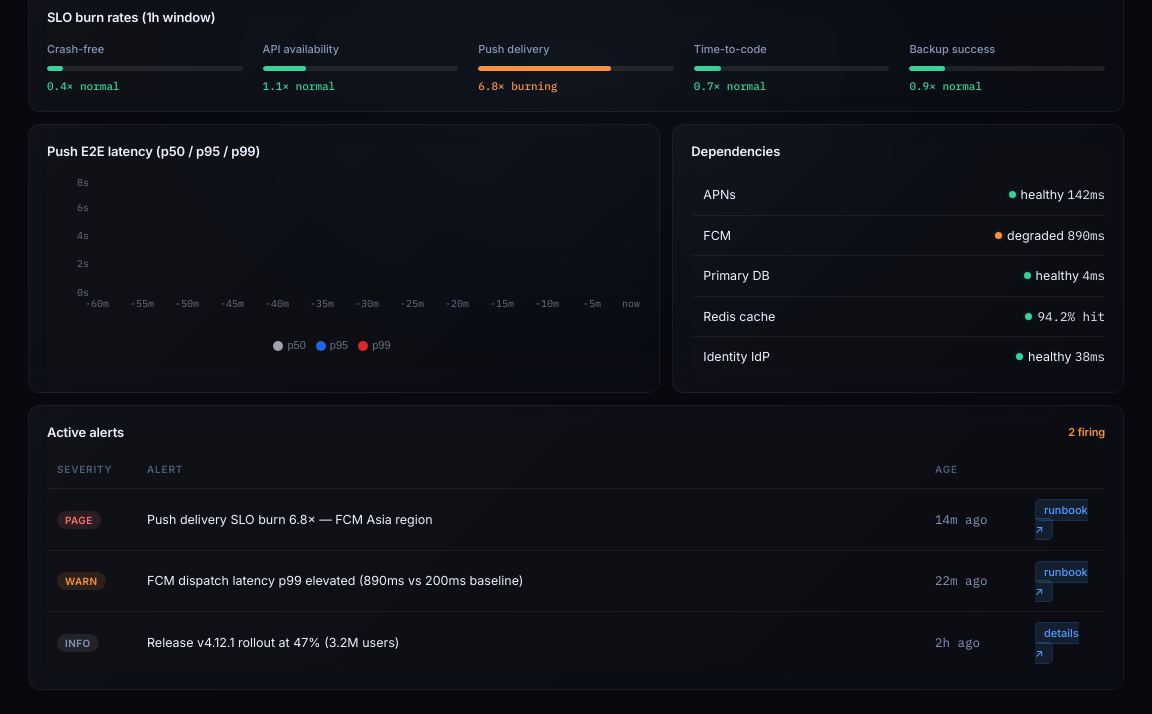
Test: SREDashboard — severity badge filter › clicking "page" badge shows clear filter in Severity column header
(page scrolled)
Click the button "page".
click(79, 520)  # box [57,511,101,529]
(page scrolled)
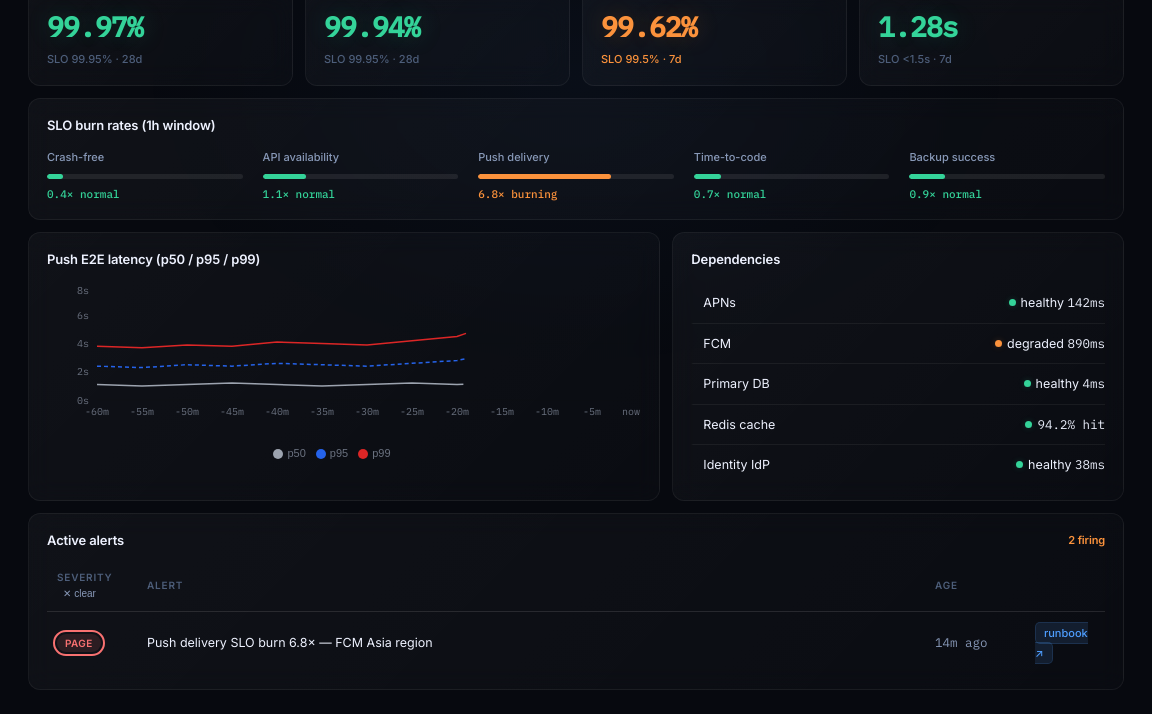
Expected: the button "✕ clear" is shown, [63,588,96,599]
